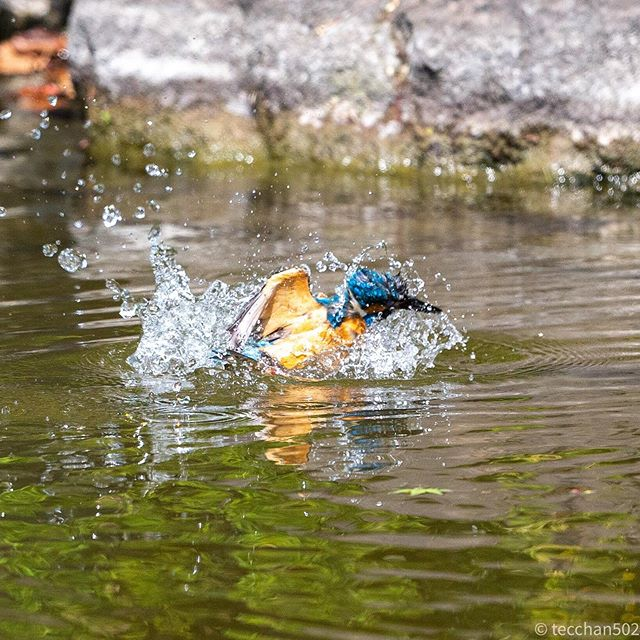animal: (184, 202, 479, 439)
river: (10, 141, 640, 640)
